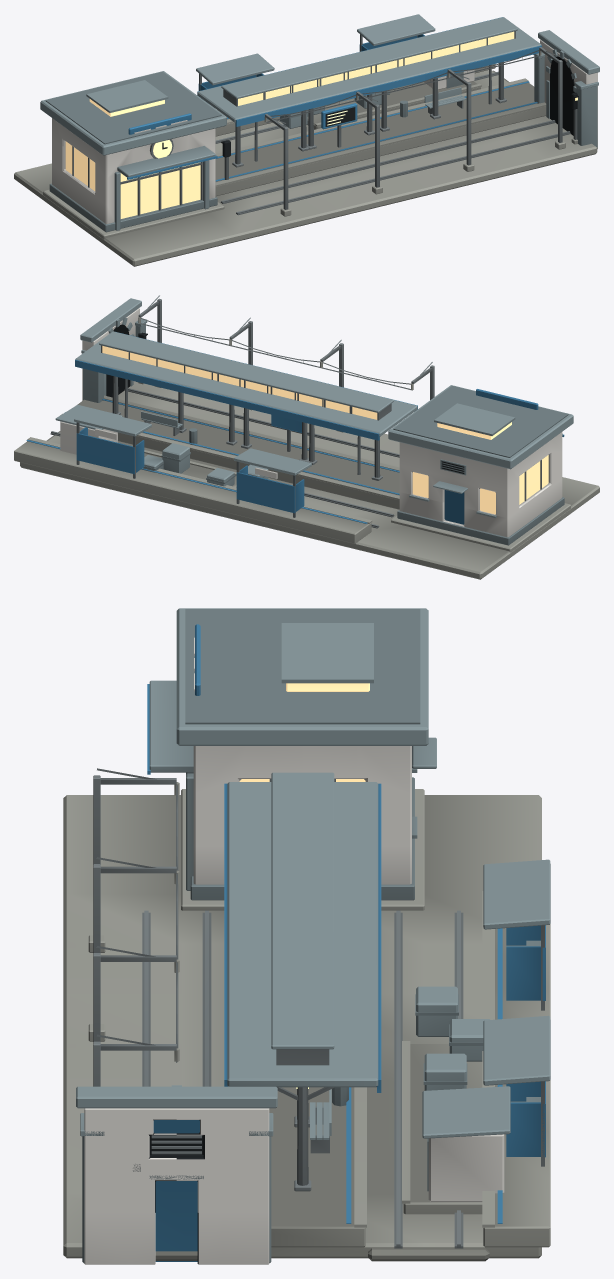
File: transit-station.glb
3 renders of one model, top to bottom at view 1: azimuth 30°, elevation 25°; view 2: azimuth 150°, elevation 25°; view 3: azimuth 270°, elevation 25°, orthographic. The views are drawn at different scales.
Parts seen in each view (by area): view 1: Station1, Station2, Station3; view 2: Station1, Station3, Station2; view 3: Station1, Station2, Station3.
Part boxes in pixels (left/top/right/bottom): Station1: left=14, top=30, right=599, bottom=266; Station2: left=197, top=17, right=541, bottom=151; Station3: left=196, top=14, right=509, bottom=143; Station1: left=20, top=295, right=599, bottom=579; Station3: left=14, top=409, right=394, bottom=543; Station2: left=75, top=331, right=417, bottom=464; Station1: left=63, top=608, right=541, bottom=1264; Station2: left=224, top=773, right=381, bottom=1191; Station3: left=368, top=859, right=550, bottom=1261.
Bounding box in the file's own units: 25.8 × 5.68 × 11.6.
